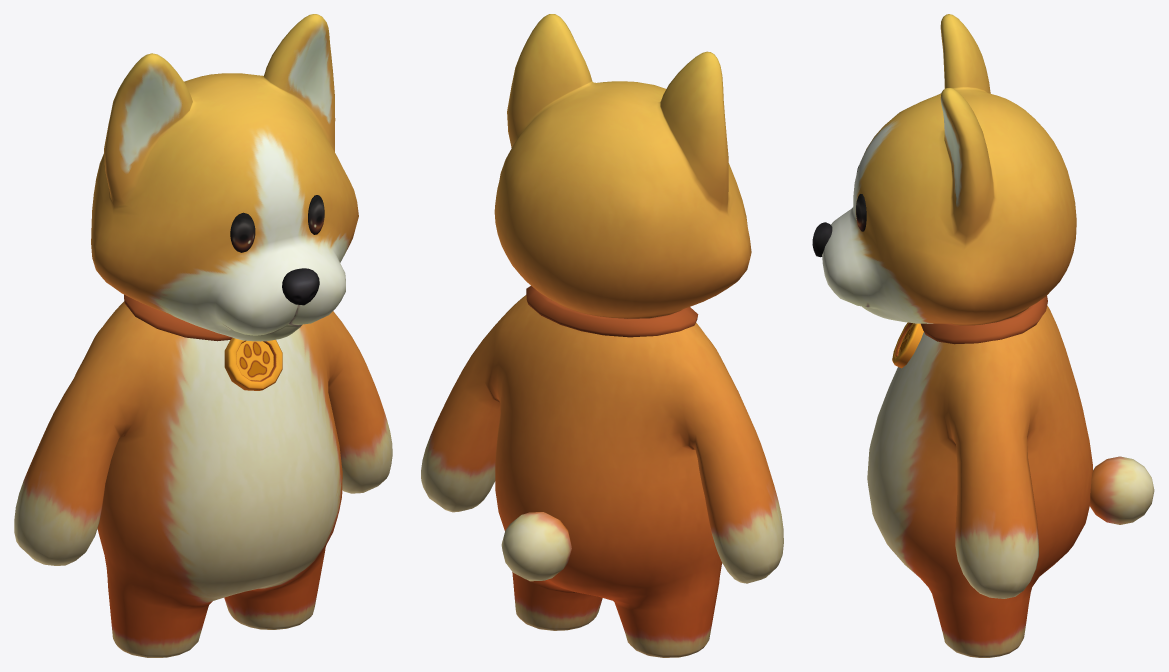
The model's file is DogLumber.fbx.
3 renders of one model, left to right at view 1: azimuth 30°, elevation 25°; view 2: azimuth 150°, elevation 25°; view 3: azimuth 270°, elevation 25°, orthographic. The views are drawn at different scales.
Parts seen in each view (by area): view 1: Dog_Body, Dog_Acc, Dog_Eye_R, Dog_Eye_L; view 2: Dog_Body, Dog_Tail, Dog_Acc; view 3: Dog_Body, Dog_Tail, Dog_Acc.
Boxes of the visible parts, x1,y1,x2,y2 form: Dog_Body: [14, 14, 392, 657]; Dog_Acc: [124, 294, 282, 390]; Dog_Eye_R: [230, 212, 255, 252]; Dog_Eye_L: [308, 195, 324, 234]; Dog_Body: [421, 14, 783, 657]; Dog_Tail: [501, 512, 571, 581]; Dog_Acc: [526, 286, 698, 337]; Dog_Body: [812, 14, 1092, 657]; Dog_Tail: [1089, 456, 1154, 524]; Dog_Acc: [892, 296, 1047, 368].
Size of the model in its own units: 228 by 362 by 199.
1 material, 1 textured.
